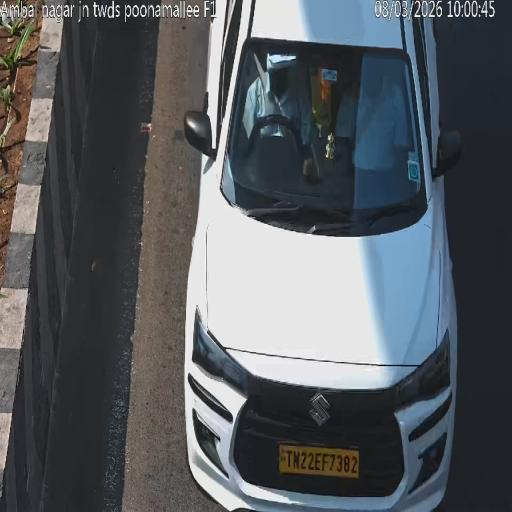person_with_seatbelt: (352, 88, 392, 157), (252, 48, 276, 134)
